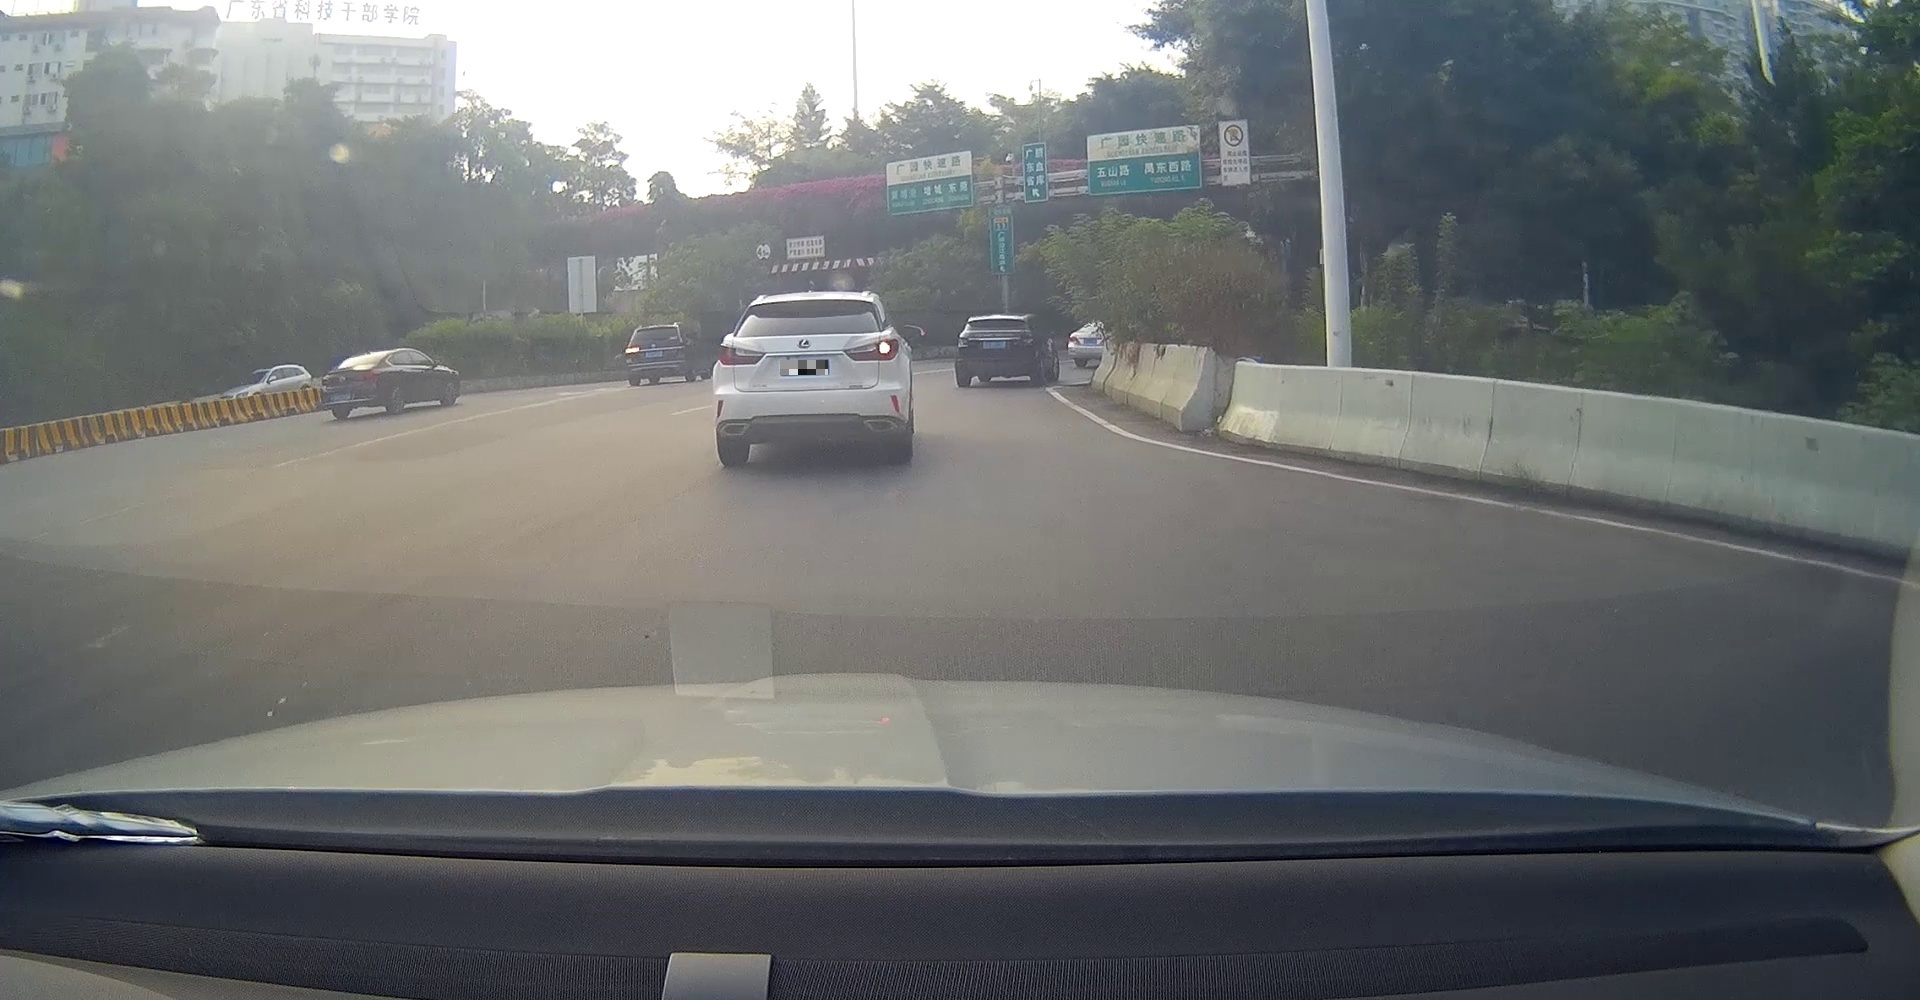L_light: (716, 341, 764, 365), (625, 346, 639, 354)
R_light: (844, 338, 899, 360), (672, 343, 686, 350)
T_light: (796, 302, 820, 305), (651, 327, 662, 330)
day-left: (623, 324, 688, 386)
day-right: (711, 294, 907, 466)
plate_1: (780, 360, 828, 376)
